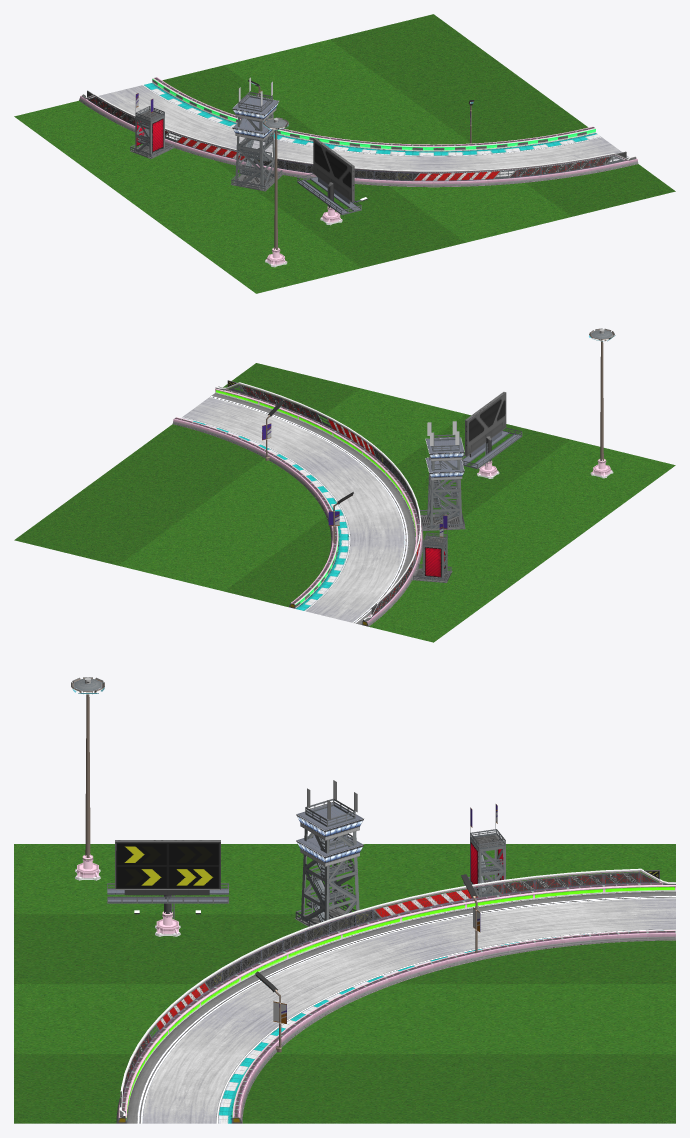
The picture shows the model from 3 angles, top to bottom: view 1: azimuth 30°, elevation 25°; view 2: azimuth 150°, elevation 25°; view 3: azimuth 270°, elevation 25°; orthographic projection. The views are drawn at different scales.
Visible parts, largest first — view 1: ground_grass60, nar_road_straight, nar_wall_corner_drift3, standard_arrow_right, pro_stewards_tower, prop_billboard_right, pro_camera_tower_attached, pro_floodlight_overhead, tower_attachment_slanted; view 2: ground_grass60, nar_road_straight, nar_wall_corner_drift3, pro_stewards_tower, standard_arrow_right, prop_billboard_right, pro_camera_tower_attached, pro_floodlight_overhead, tower_attachment_slanted; view 3: ground_grass60, nar_road_straight, nar_wall_corner_drift3, standard_arrow_right, prop_billboard_right, pro_stewards_tower, pro_camera_tower_attached, pro_floodlight_overhead.
Part boxes in pixels (x1,y1,x2,y2): ground_grass60: (14,14,675,293); nar_road_straight: (90,83,629,176); nar_wall_corner_drift3: (79,77,638,187); standard_arrow_right: (82,90,636,181); pro_stewards_tower: (232,77,279,189); prop_billboard_right: (297,138,367,214); pro_camera_tower_attached: (135,106,164,156); pro_floodlight_overhead: (263,117,288,249); tower_attachment_slanted: (231,170,282,191); ground_grass60: (14,363,675,642); nar_road_straight: (181,393,415,624); nar_wall_corner_drift3: (172,388,423,626); pro_stewards_tower: (425,421,464,528); standard_arrow_right: (215,380,421,621); prop_billboard_right: (462,392,522,469); pro_camera_tower_attached: (422,532,447,580); pro_floodlight_overhead: (589,328,614,460); tower_attachment_slanted: (419,509,465,530); ground_grass60: (14,844,675,1123); nar_road_straight: (126,891,675,1123); nar_wall_corner_drift3: (116,882,675,1123); standard_arrow_right: (119,868,675,1117); prop_billboard_right: (107,840,228,918); pro_stewards_tower: (296,780,363,922); pro_camera_tower_attached: (470,829,505,894); pro_floodlight_overhead: (71,677,104,857).
Bounding box in the file's own units: 12800 × 4282 × 12800.
